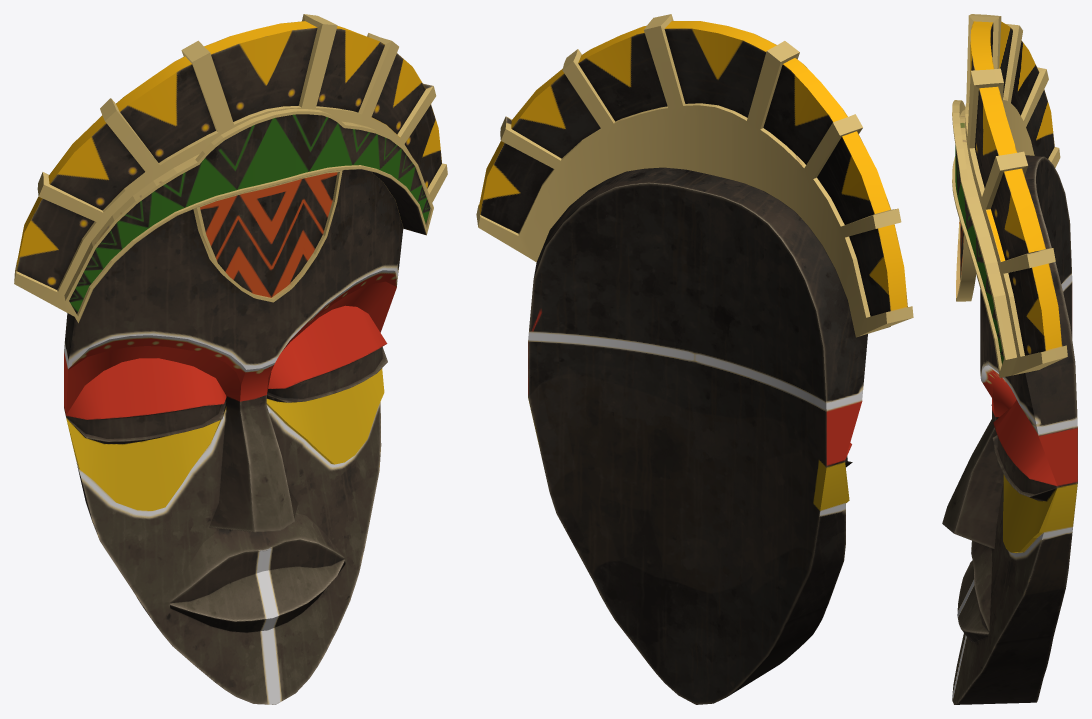
File: tx_hub_africanmask.gltf
3 renders of one model, left to right at view 1: azimuth 30°, elevation 25°; view 2: azimuth 150°, elevation 25°; view 3: azimuth 270°, elevation 25°, orthographic.
Parts seen in each view (by area): view 1: SM_mask_Material #126_0; view 2: SM_mask_Material #126_0; view 3: SM_mask_Material #126_0.
Part boxes in pixels (<box>): SM_mask_Material #126_0: <box>14,14,447,704</box>; SM_mask_Material #126_0: <box>476,14,913,704</box>; SM_mask_Material #126_0: <box>942,14,1077,704</box>.
Size of the model in its own units: 4.78 by 6.91 by 1.29.
1 material, 1 textured.
